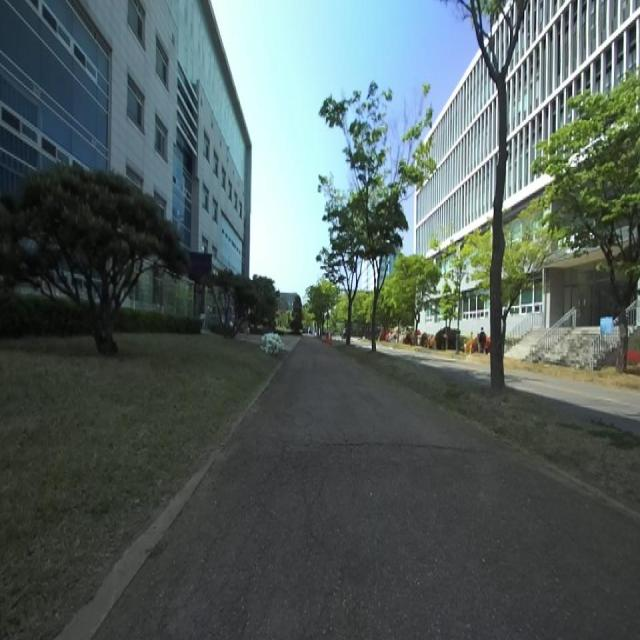sidewalk: (58, 338, 640, 639)
